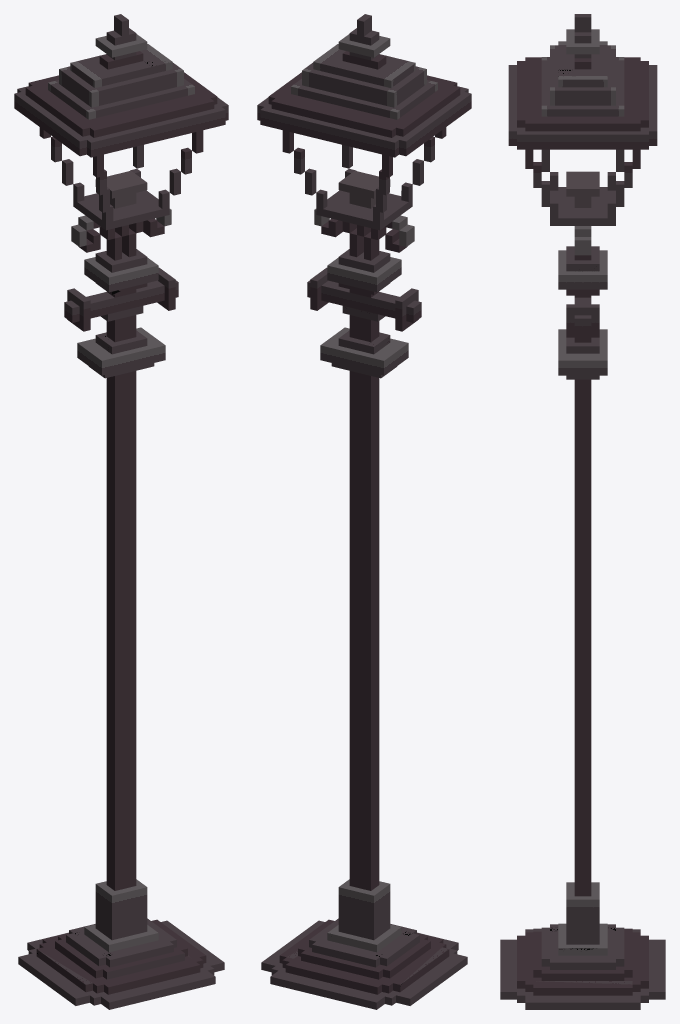
File: lamp.glb
3 renders of one model, left to right at view 1: azimuth 30°, elevation 25°; view 2: azimuth 150°, elevation 25°; view 3: azimuth 270°, elevation 25°, orthographic.
Visible parts, largest first — view 1: lamp-col; view 2: lamp-col; view 3: lamp-col.
Part boxes in pixels (bbox=[...]): lamp-col: bbox=[14, 14, 228, 1009]; lamp-col: bbox=[257, 14, 471, 1009]; lamp-col: bbox=[500, 14, 665, 1009].
Bounding box in the file's own units: 2.1 × 12.8 × 2.
Materials: 1 (1 with a texture image).
